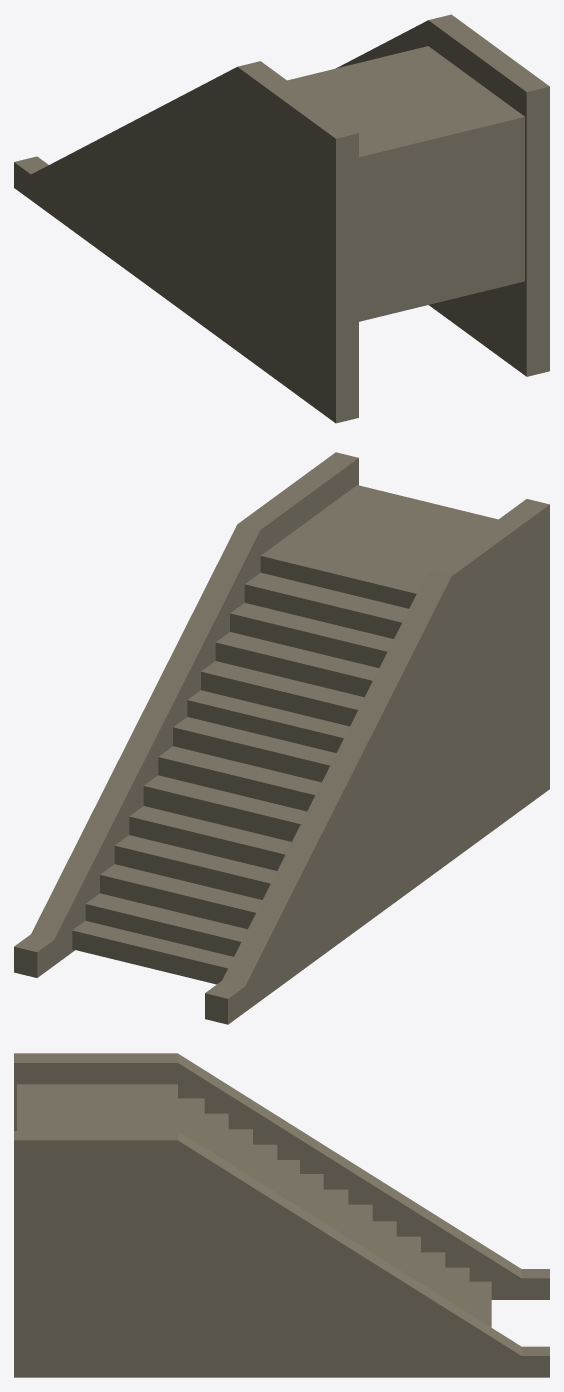
File: TempleStair_C.fbx
3 views of the same model, one above another, from view 1: azimuth 30°, elevation 25°; view 2: azimuth 150°, elevation 25°; view 3: azimuth 270°, elevation 25° (orthographic). The views are drawn at different scales.
Visible parts, largest first — view 1: TempleStair_C01, TempleStair_C02; view 2: TempleStair_C01, TempleStair_C02; view 3: TempleStair_C01, TempleStair_C02.
Boxes of the visible parts, x1,y1,x2,y2 form: TempleStair_C01: (14, 14, 549, 423); TempleStair_C02: (287, 46, 524, 321); TempleStair_C01: (14, 452, 549, 1024); TempleStair_C02: (72, 485, 498, 984); TempleStair_C01: (14, 1053, 549, 1377); TempleStair_C02: (17, 1084, 491, 1327).
Size of the model in its own units: 509 by 647 by 1326.
